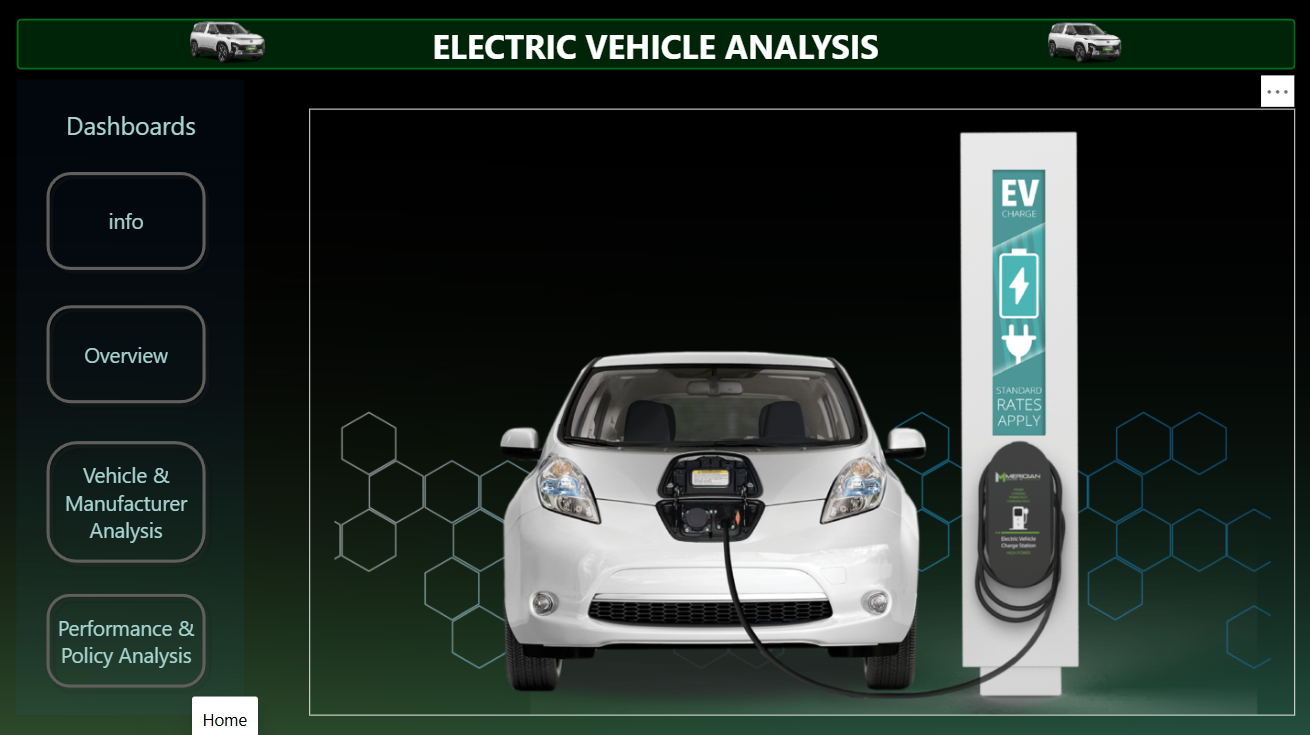

The dashboard page shown, as its layout file describes it:
{"tool":"powerbi","page":{"name":"Home","canvas":[1280,720],"ordinal":0},"visuals":[{"type":"shape","box":[18.9,18.9,1242.8,49.9],"z":0},{"type":"textbox","box":[417.8,18.9,463.7,59.3],"z":1000},{"type":"image","box":[835.7,13.5,435.4,55.3],"z":2000},{"type":"image","box":[63.4,12.1,314.1,56.6],"z":3000},{"type":"image","box":[303.3,106.5,958.4,589],"z":4000},{"type":"shape","box":[18.9,78.2,221.1,617.3],"z":5000},{"type":"actionButton","box":[39.1,288.5,172.5,113.2],"z":6000},{"type":"actionButton","box":[39.1,420.5,172.5,136.1],"z":7000},{"type":"actionButton","box":[39.1,568.8,172.5,109.2],"z":8000},{"type":"shape","box":[28.3,84.9,203.5,74.1],"z":9000},{"type":"actionButton","box":[39.1,159.1,172.5,113.2],"z":10000}]}

Visuals, with their boxes on the page's 1280x720 design canvas (x1, y1, x2, y2). These are canvas units, not pixel positions in the 1310x735 screenshot, which may show the page scaled, cropped or inside an application window:
shape: 19,19,1262,69
textbox: 418,19,882,78
image: 836,14,1271,69
image: 63,12,378,69
image: 303,106,1262,696
shape: 19,78,240,696
actionButton: 39,288,212,402
actionButton: 39,420,212,557
actionButton: 39,569,212,678
shape: 28,85,232,159
actionButton: 39,159,212,272
